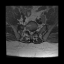CCS_normal: (31, 29, 32, 36)
LFS_normal: (34, 28, 36, 33)
LLS_normal: (32, 29, 34, 34)
RFS_normal: (28, 28, 29, 33)
RLS_normal: (29, 29, 31, 35)
